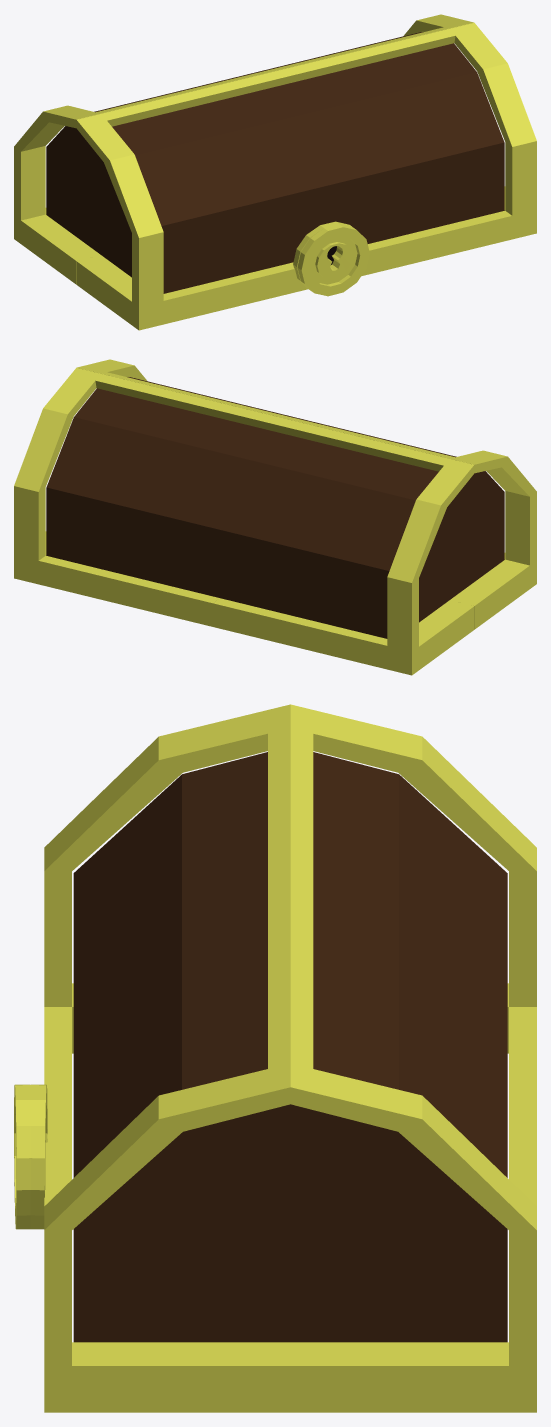
Rendered from cofre1.fbx.
The picture shows the model from 3 angles, top to bottom: view 1: azimuth 30°, elevation 25°; view 2: azimuth 150°, elevation 25°; view 3: azimuth 270°, elevation 25°; orthographic projection. The views are drawn at different scales.
Visible parts, largest first — view 1: CofreSuperior; view 2: CofreSuperior; view 3: CofreSuperior.
Part boxes in pixels (x1,y1,x2,y2): CofreSuperior: (14, 14, 536, 330); CofreSuperior: (14, 359, 536, 675); CofreSuperior: (14, 704, 536, 1412).
Size of the model in its own units: 1.24 by 0.508 by 0.7179.
